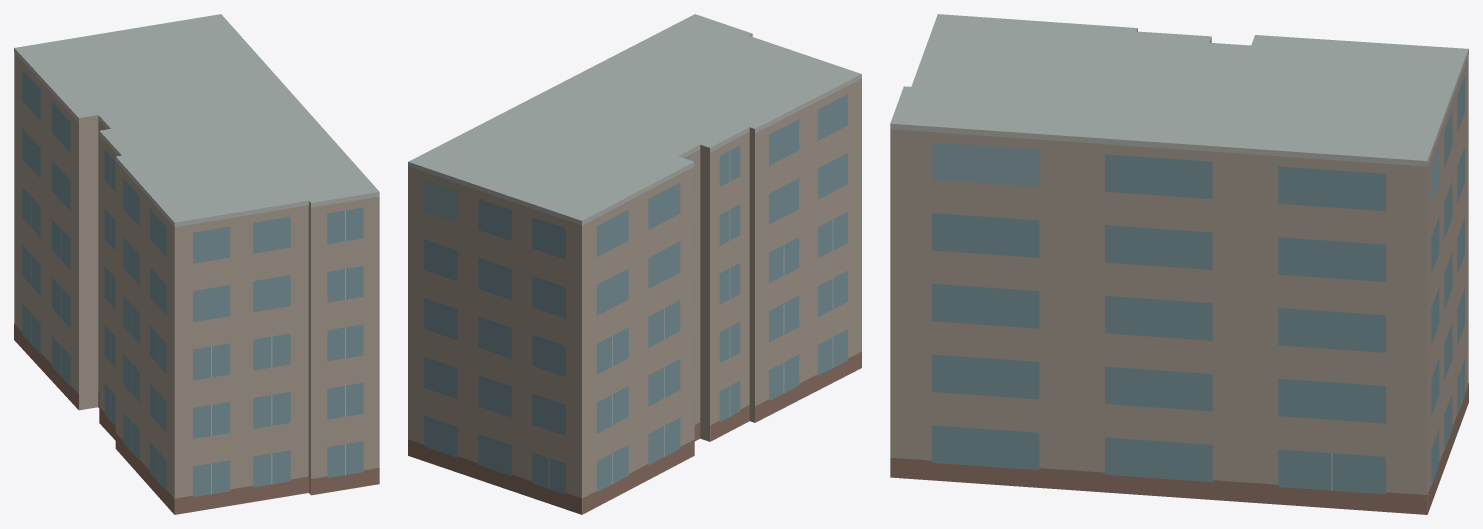
The model's file is survey-upis-32951334.glb.
3 views of the same model, side by side, from view 1: azimuth 30°, elevation 25°; view 2: azimuth 150°, elevation 25°; view 3: azimuth 270°, elevation 25° (orthographic). The views are drawn at different scales.
Visible parts, largest first — view 1: survey-upis-32951334.tmp; view 2: survey-upis-32951334.tmp; view 3: survey-upis-32951334.tmp.
Boxes of the visible parts, box(x1,y1,x2,y2) form: survey-upis-32951334.tmp: box(14, 14, 379, 514); survey-upis-32951334.tmp: box(408, 14, 861, 514); survey-upis-32951334.tmp: box(890, 14, 1468, 514).
Size of the model in its own units: 13.83 by 15.5 by 22.98.
